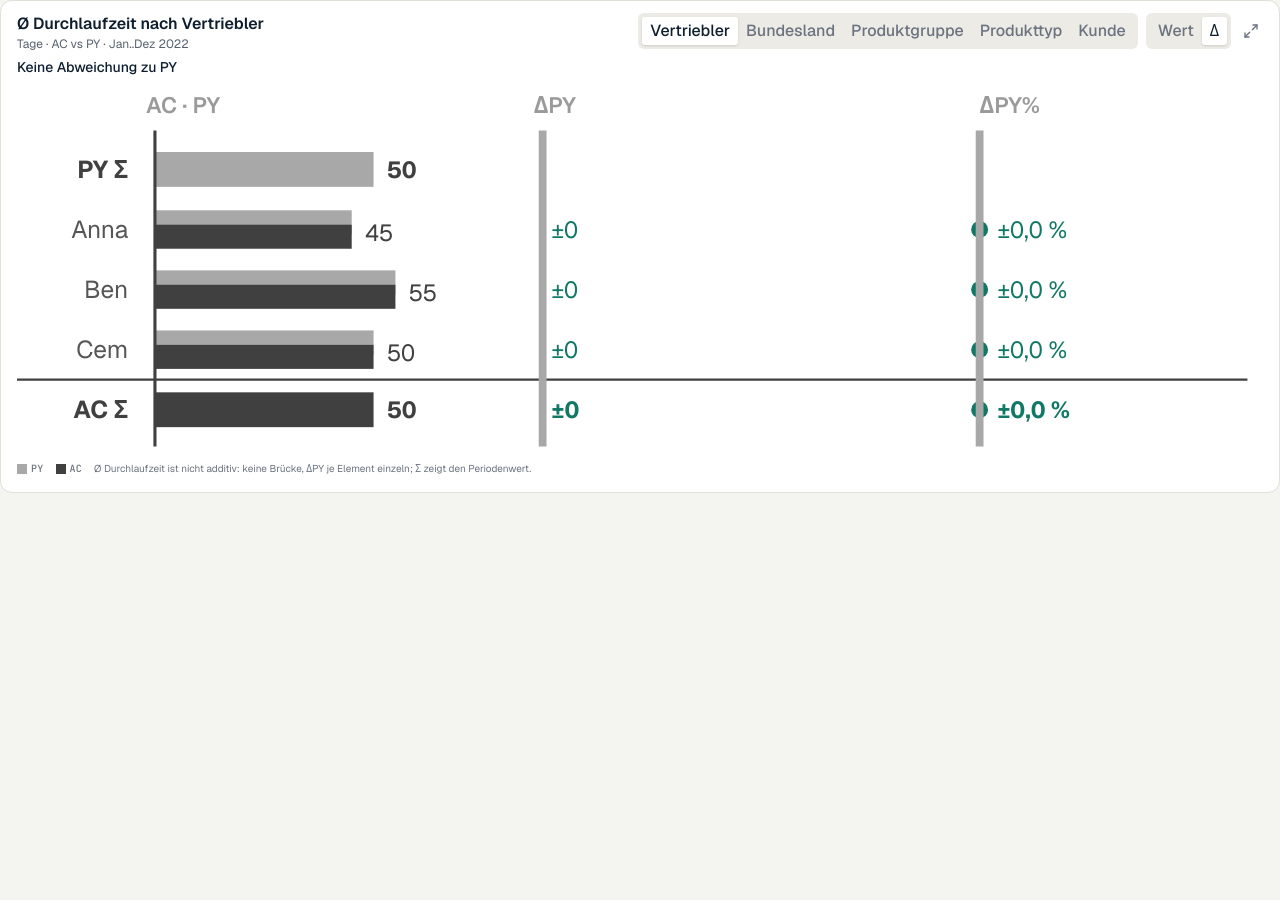
Test: StructureChart › zoom mode › renders multiples of non-additive KPIs without NaN
Click the button named "Vergrößern": (1251, 31) [1239, 19, 1263, 43]
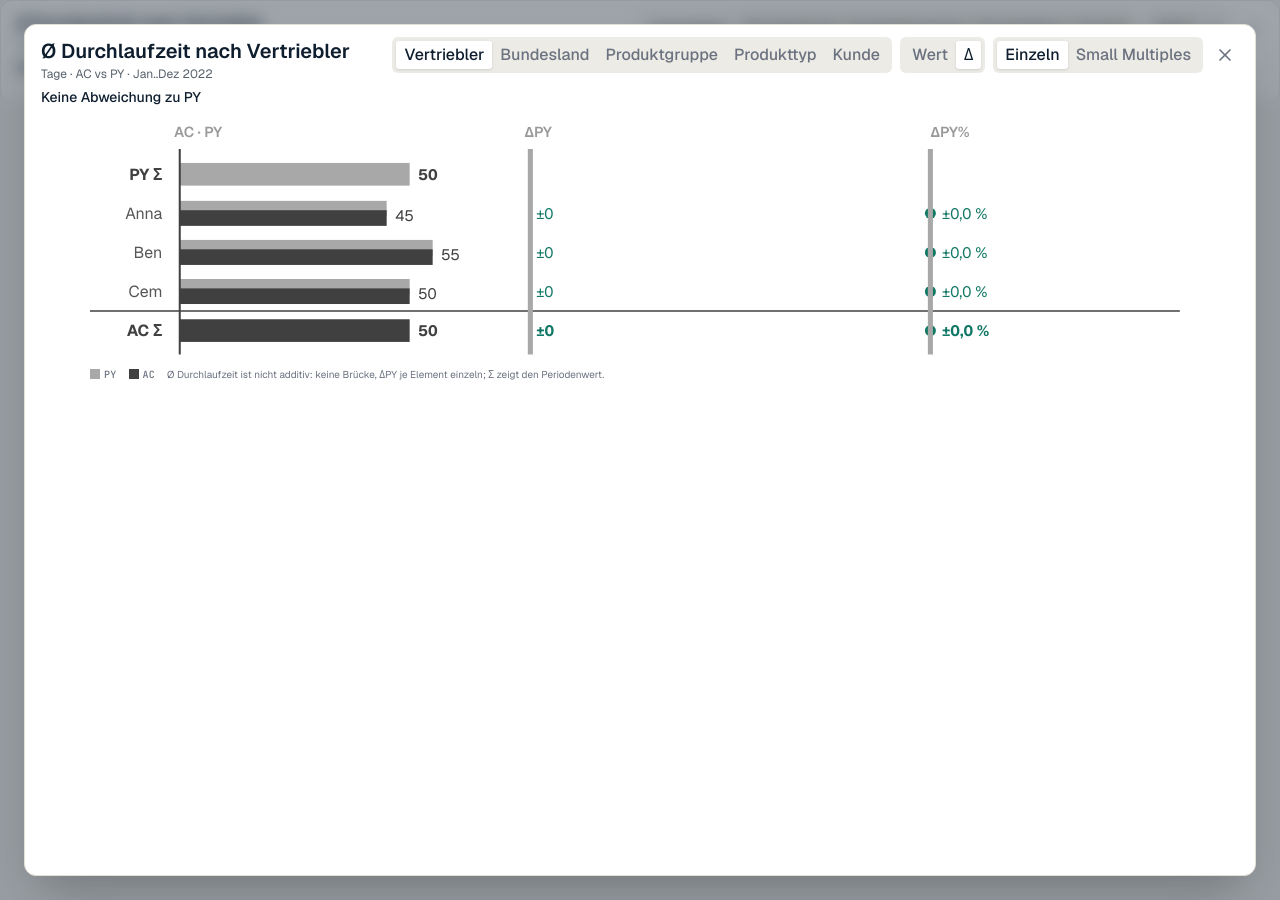
Click the radio button labelled "Small Multiples": (1133, 55) [1068, 41, 1199, 69]
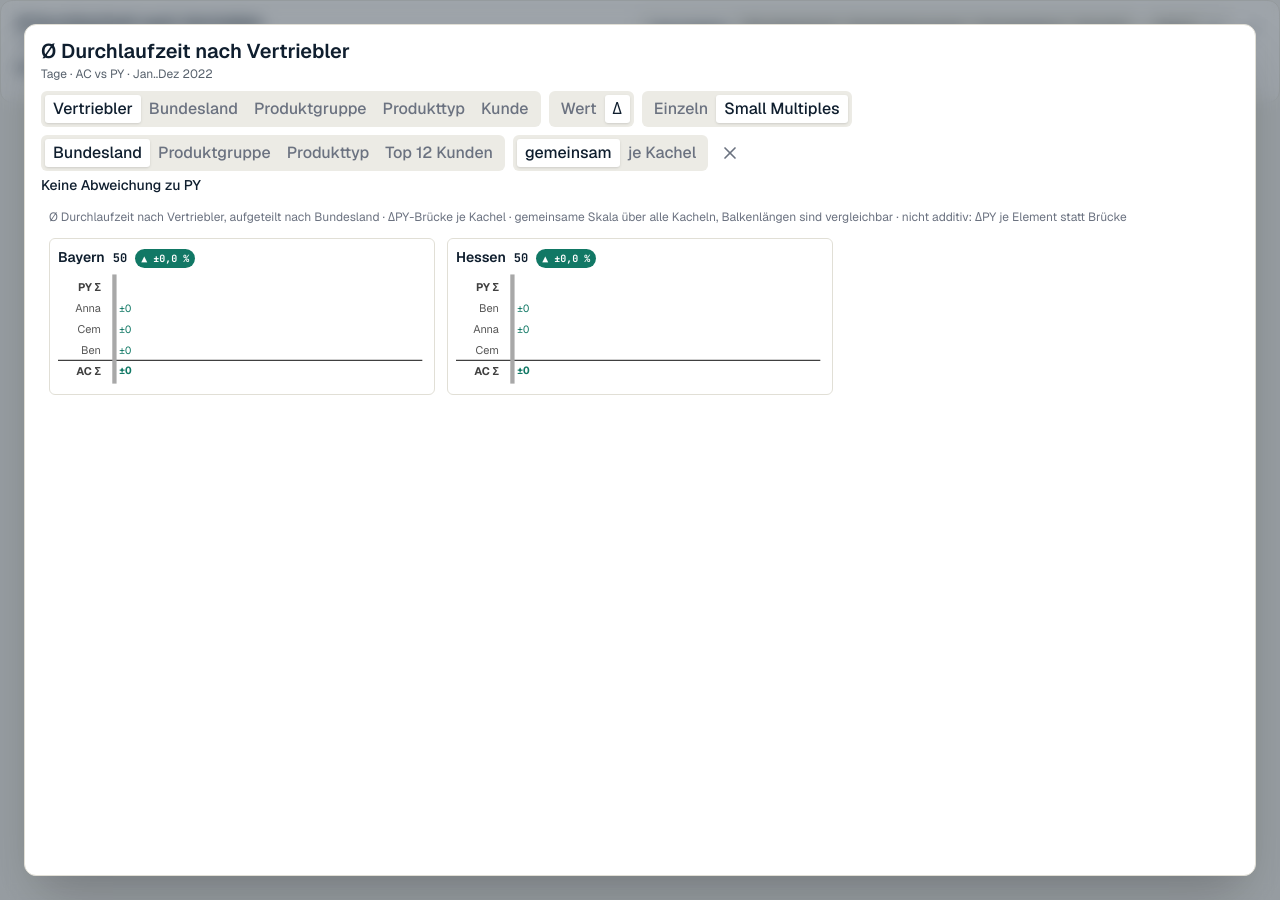
Expected: the button with aria-label "Einzelansicht öffnen" is shown, [49, 238, 435, 395]
Expected: the text "nicht additiv" is shown, [893, 209, 1127, 225]
